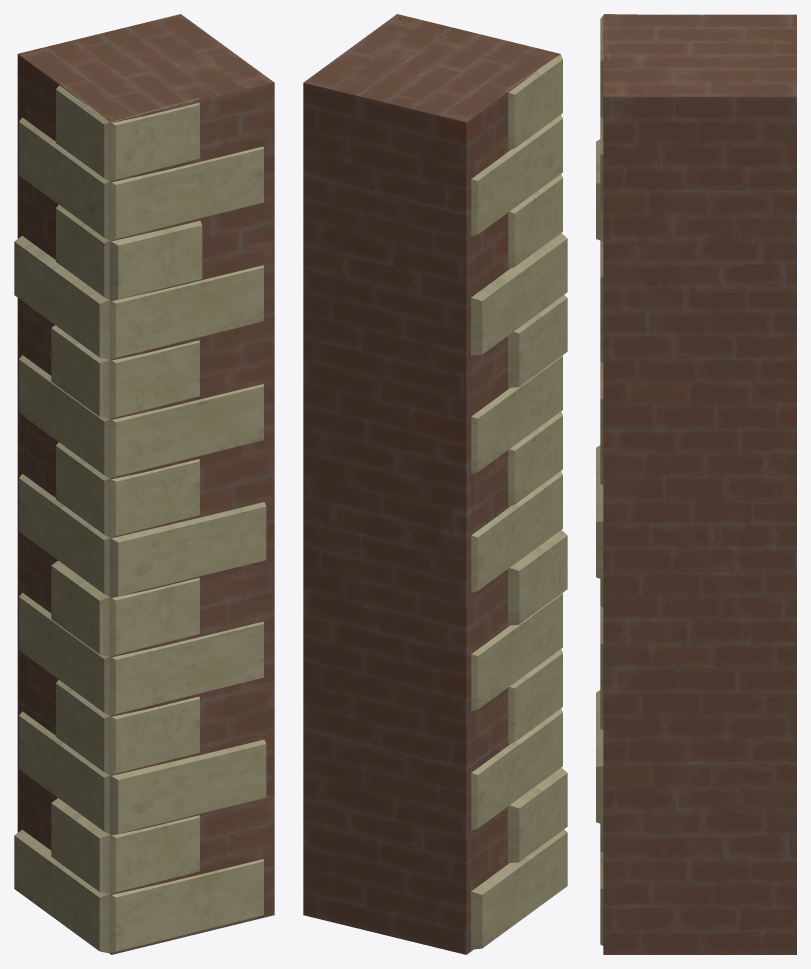
Rendered from brick_column_trimbricks.glb.
3 renders of one model, left to right at view 1: azimuth 30°, elevation 25°; view 2: azimuth 150°, elevation 25°; view 3: azimuth 270°, elevation 25°, orthographic. The views are drawn at different scales.
Parts seen in each view (by area): view 1: Brick_Column_TrimBricks; view 2: Brick_Column_TrimBricks; view 3: Brick_Column_TrimBricks.
Part boxes in pixels (x1,y1,x2,y2): Brick_Column_TrimBricks: (14, 14, 274, 954); Brick_Column_TrimBricks: (303, 14, 567, 954); Brick_Column_TrimBricks: (596, 14, 796, 954).
Size of the model in its own units: 0.6514 by 3 by 0.636.
Materials: 2 (2 with a texture image).
